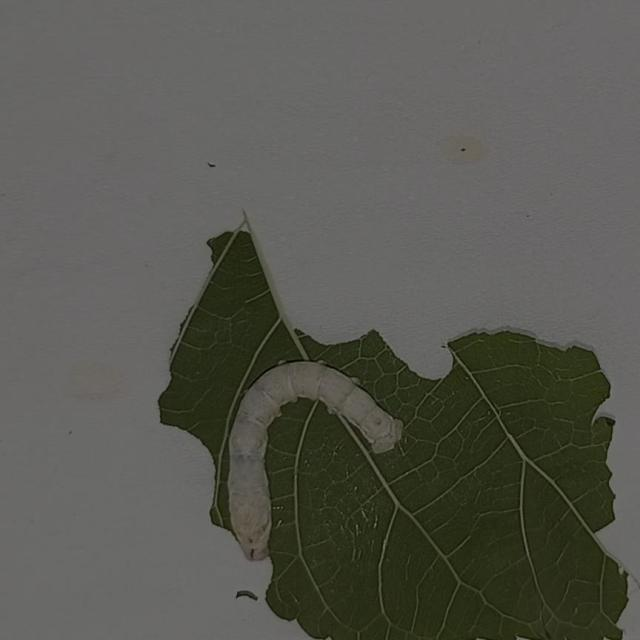Healthy: (206, 345, 412, 569)
